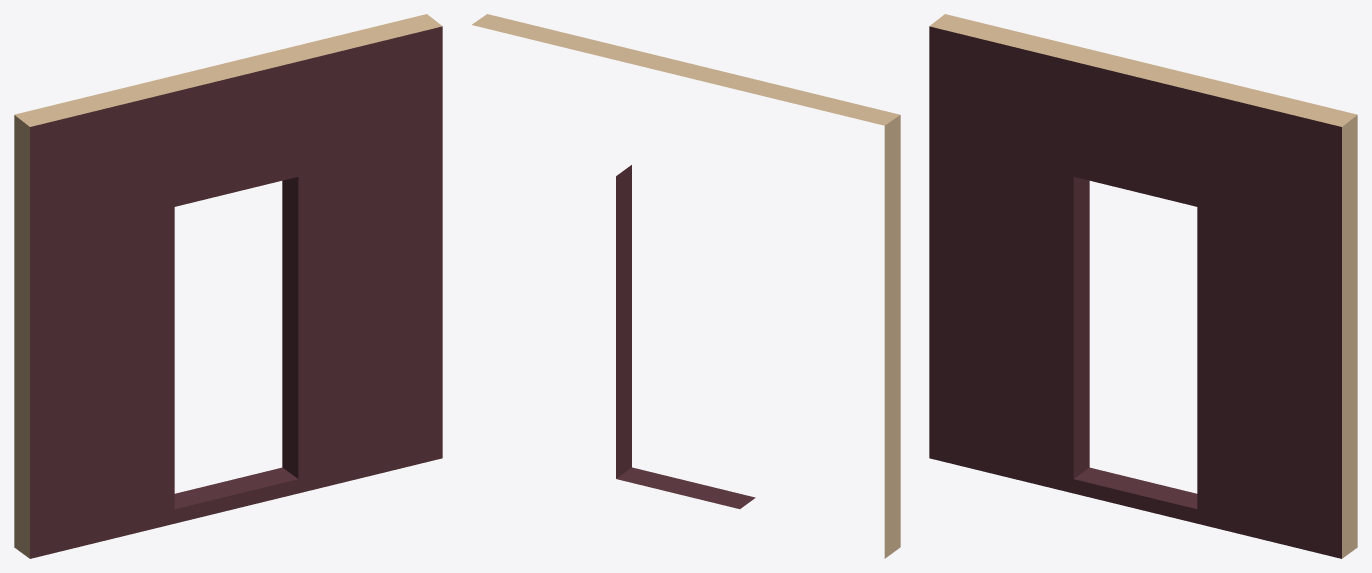
The model's file is buildings-house-wall-door-3x3m.glb.
3 views of the same model, side by side, from view 1: azimuth 30°, elevation 25°; view 2: azimuth 150°, elevation 25°; view 3: azimuth 330°, elevation 25° (orthographic).
Parts seen in each view (by area): view 1: house-wall-door-3x3m; view 2: house-wall-door-3x3m; view 3: house-wall-door-3x3m.
Part boxes in pixels (x1,y1,x2,y2): house-wall-door-3x3m: [14, 14, 442, 558]; house-wall-door-3x3m: [472, 14, 900, 558]; house-wall-door-3x3m: [929, 14, 1357, 558].
Bounding box in the file's own units: 3 × 3.01 × 0.2.
